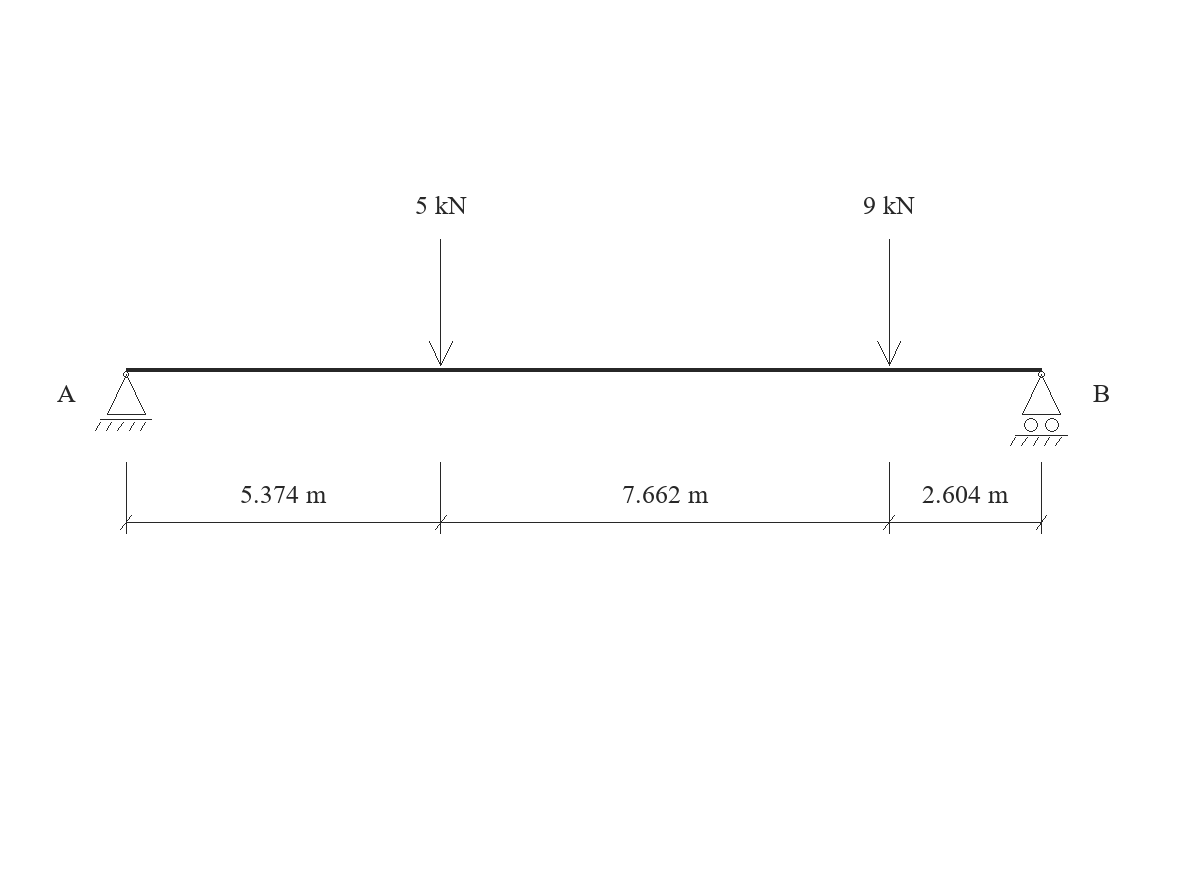pin_support: (95, 371, 152, 431)
point_load: (429, 239, 453, 366), (877, 239, 901, 366)
roller_support: (1010, 371, 1068, 446)
